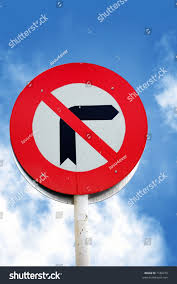No_right_turn: (10, 62, 148, 194)
